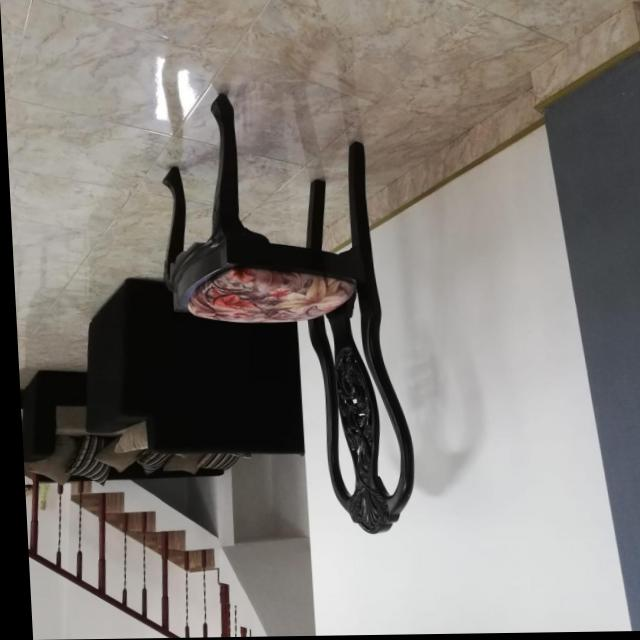Chair: (152, 93, 413, 542)
